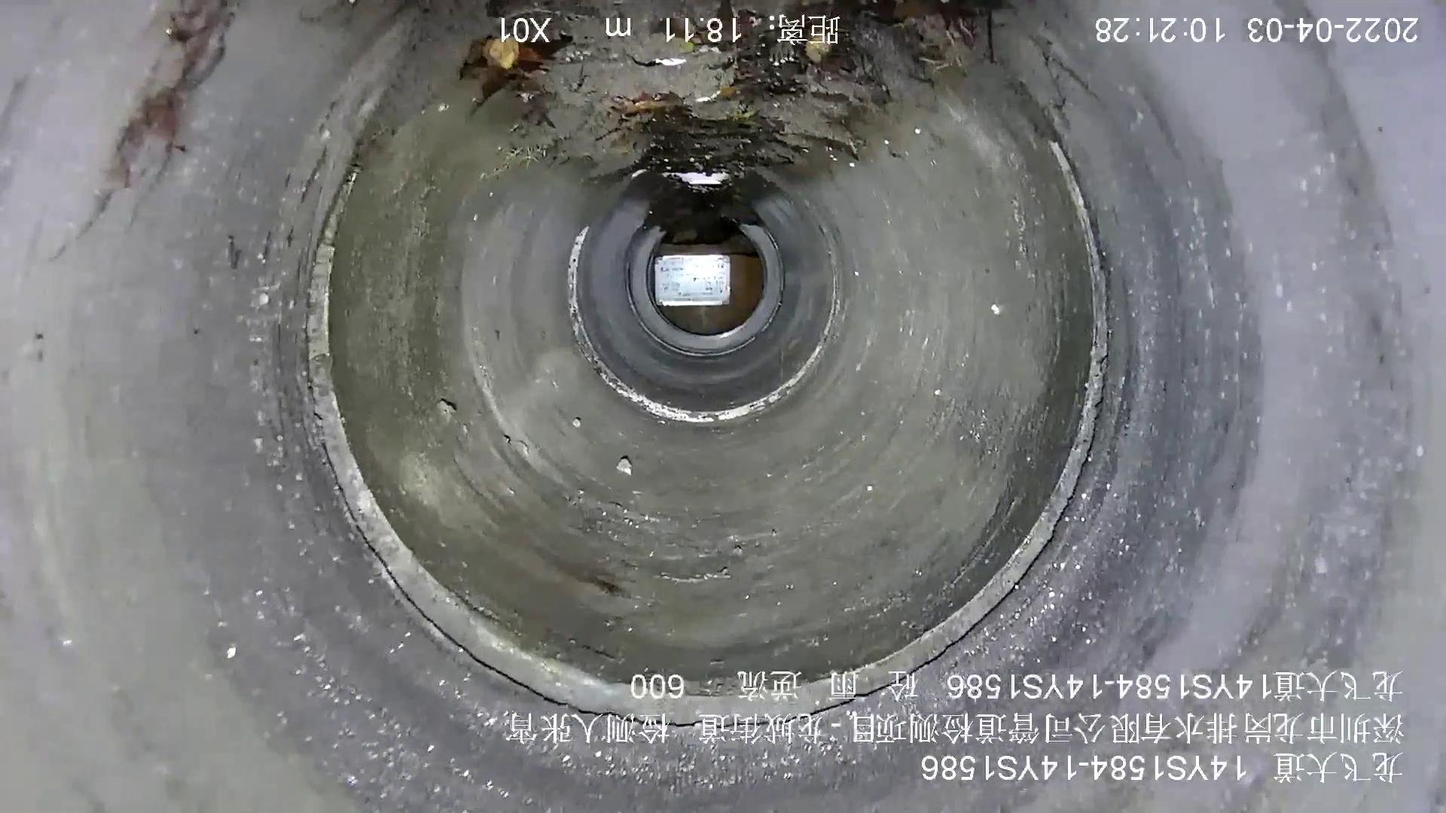CJ: (461, 1, 988, 196)
CKTJ: (307, 142, 1108, 725), (566, 229, 840, 423)
